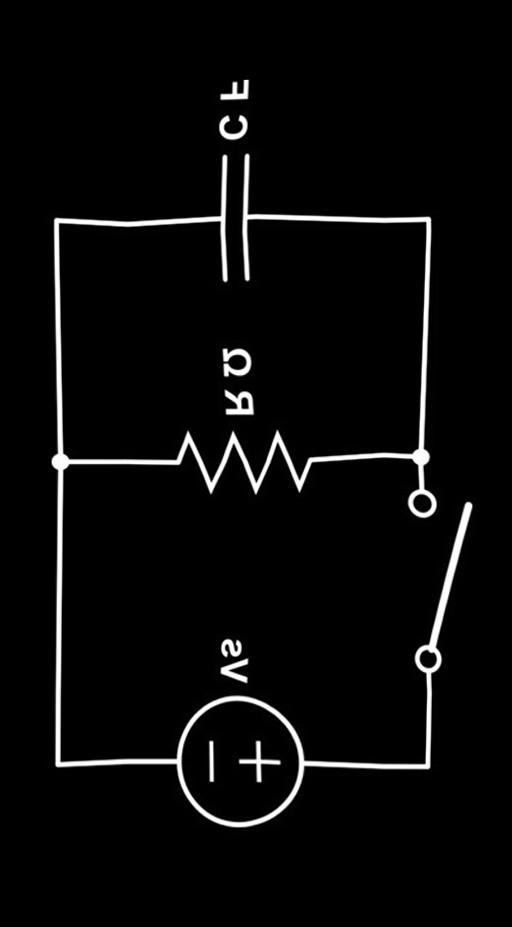Battery: (147, 677, 320, 845)
